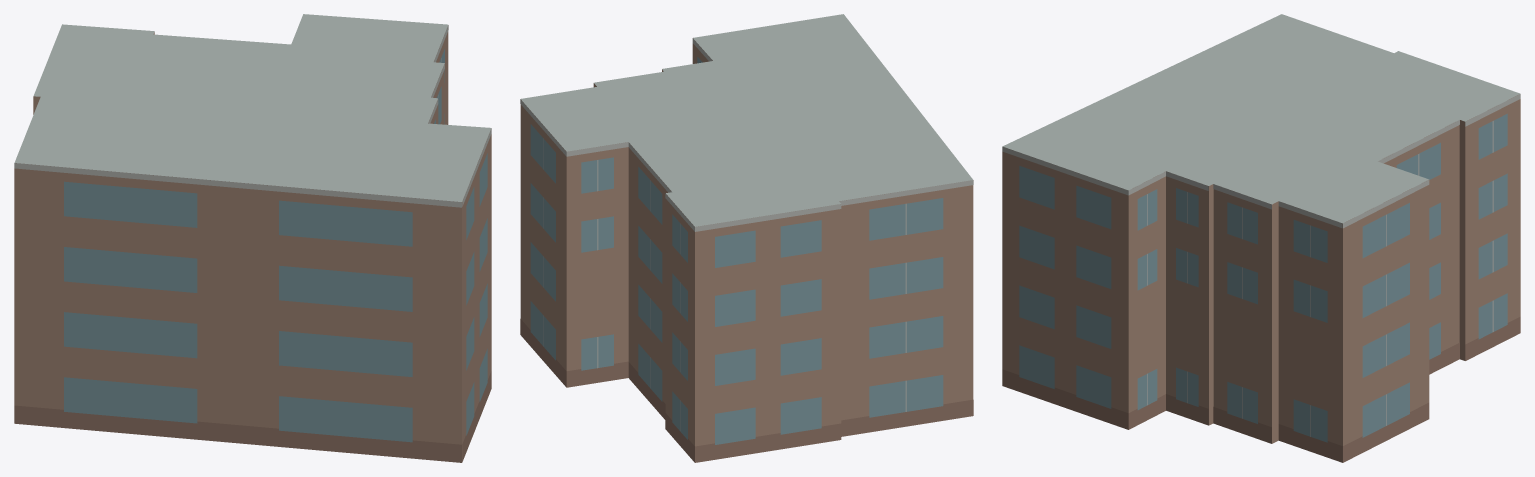
File: survey-upis-32975124.glb
3 renders of one model, left to right at view 1: azimuth 30°, elevation 25°; view 2: azimuth 150°, elevation 25°; view 3: azimuth 270°, elevation 25°, orthographic. The views are drawn at different scales.
Visible parts, largest first — view 1: survey-upis-32975124.tmp; view 2: survey-upis-32975124.tmp; view 3: survey-upis-32975124.tmp.
Part boxes in pixels (box(x1,y1,x2,y2)): survey-upis-32975124.tmp: box(14, 14, 491, 462); survey-upis-32975124.tmp: box(520, 14, 973, 462); survey-upis-32975124.tmp: box(1002, 14, 1520, 462).
Size of the model in its own units: 21.48 by 11.45 by 22.47.
